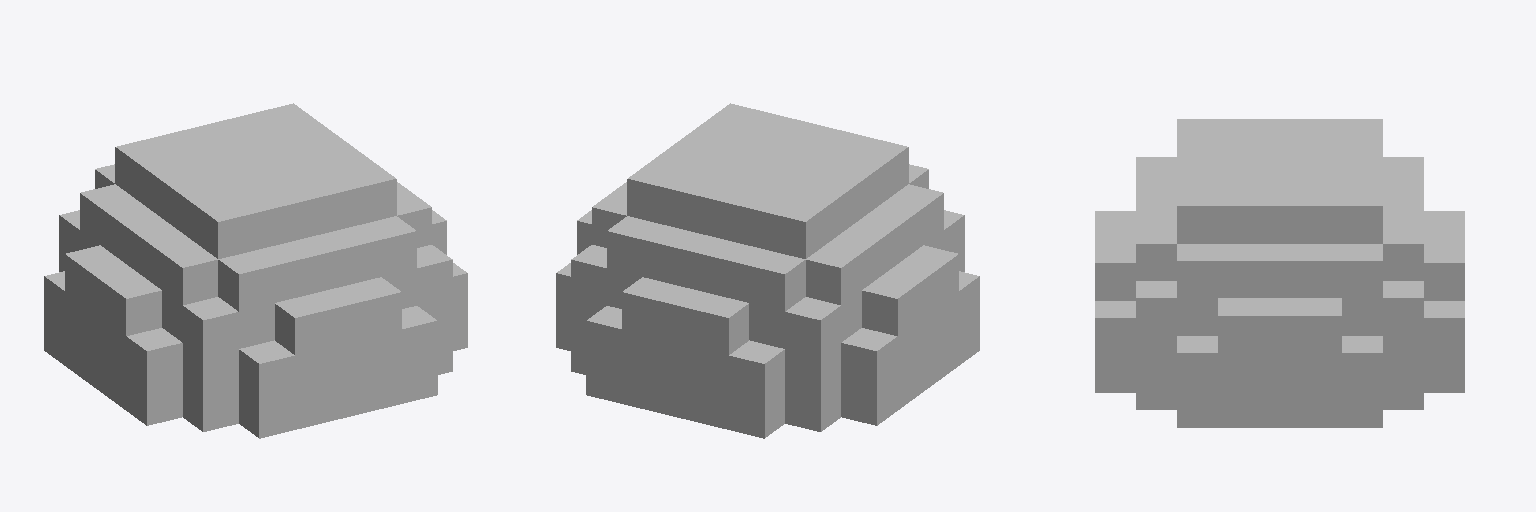
File: ice_shisaku.obj
3 views of the same model, side by side, from view 1: azimuth 30°, elevation 25°; view 2: azimuth 150°, elevation 25°; view 3: azimuth 270°, elevation 25° (orthographic).
Visible parts, largest first — view 1: object 1; view 2: object 1; view 3: object 1.
Part boxes in pixels (x1,y1,x2,y2): object 1: (44, 103, 467, 438); object 1: (556, 103, 979, 438); object 1: (1095, 119, 1464, 427).
Size of the model in its own units: 0.9 by 0.5 by 0.9.